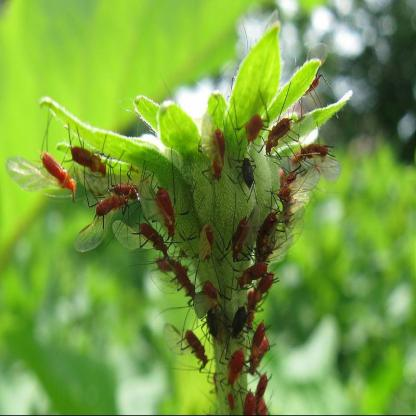aphid: (65, 123, 114, 180), (165, 315, 217, 367), (37, 144, 81, 203), (257, 203, 301, 261), (148, 172, 184, 238), (223, 207, 264, 261), (150, 258, 196, 304), (132, 212, 176, 259), (292, 137, 342, 178), (85, 184, 134, 222), (298, 47, 330, 105), (200, 123, 230, 183), (260, 112, 299, 157), (247, 270, 285, 316), (236, 101, 269, 153), (236, 250, 274, 289), (251, 362, 277, 415), (220, 337, 248, 386), (277, 164, 325, 192), (275, 183, 315, 213), (196, 304, 229, 340), (236, 158, 265, 198), (230, 294, 255, 340), (105, 170, 144, 199), (192, 274, 218, 316), (250, 322, 272, 365), (194, 223, 215, 264), (222, 386, 245, 412)
